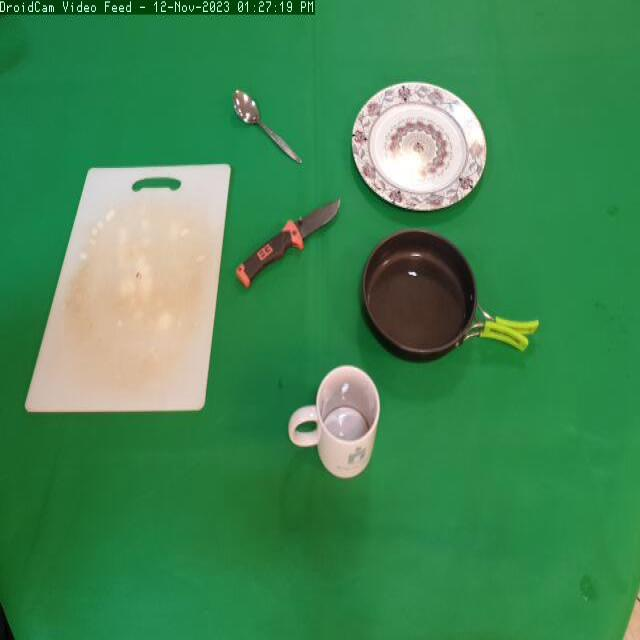cup: (287, 360, 386, 494)
cutting board: (28, 154, 244, 426)
knife: (236, 192, 346, 291)
pan: (352, 227, 546, 382)
plate: (350, 76, 496, 218)
spoon: (233, 79, 308, 167)
